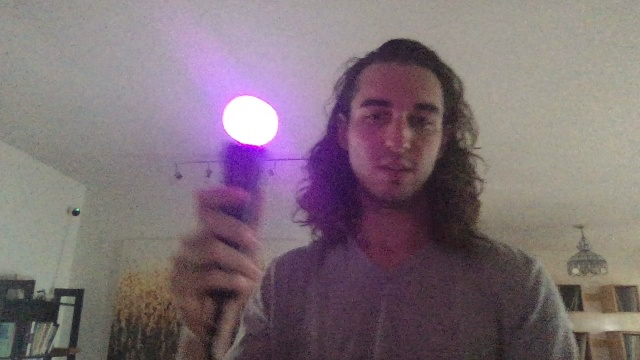wand: (224, 97, 278, 146)
